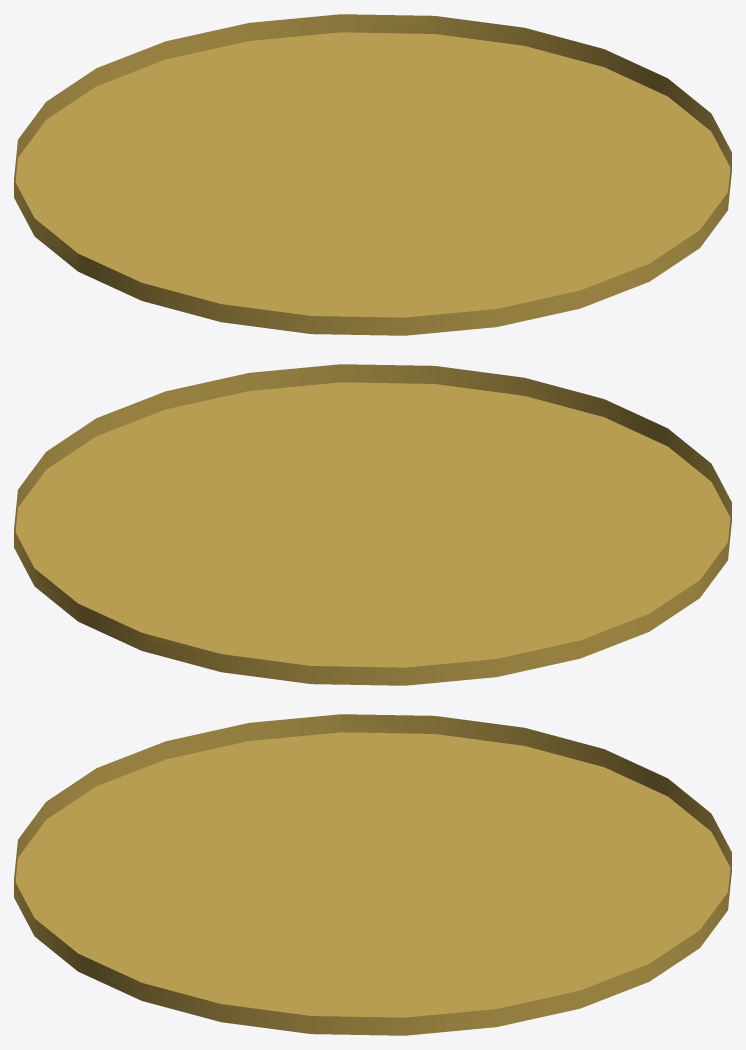
Rendered from original-82.obj.
3 renders of one model, top to bottom at view 1: azimuth 30°, elevation 25°; view 2: azimuth 150°, elevation 25°; view 3: azimuth 270°, elevation 25°, orthographic.
Visible parts, largest first — view 1: #ID466; view 2: #ID466; view 3: #ID466.
Boxes of the visible parts, <box> form: #ID466: <box>14,14,731,335</box>; #ID466: <box>14,364,731,685</box>; #ID466: <box>14,714,731,1035</box>.
Bounding box in the file's own units: 0.1636 × 0.00456 × 0.1636.
